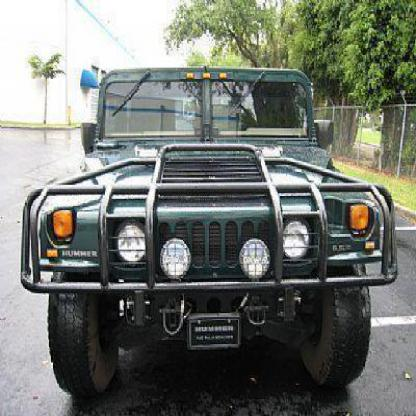Vehicle: (21, 68, 400, 399)
